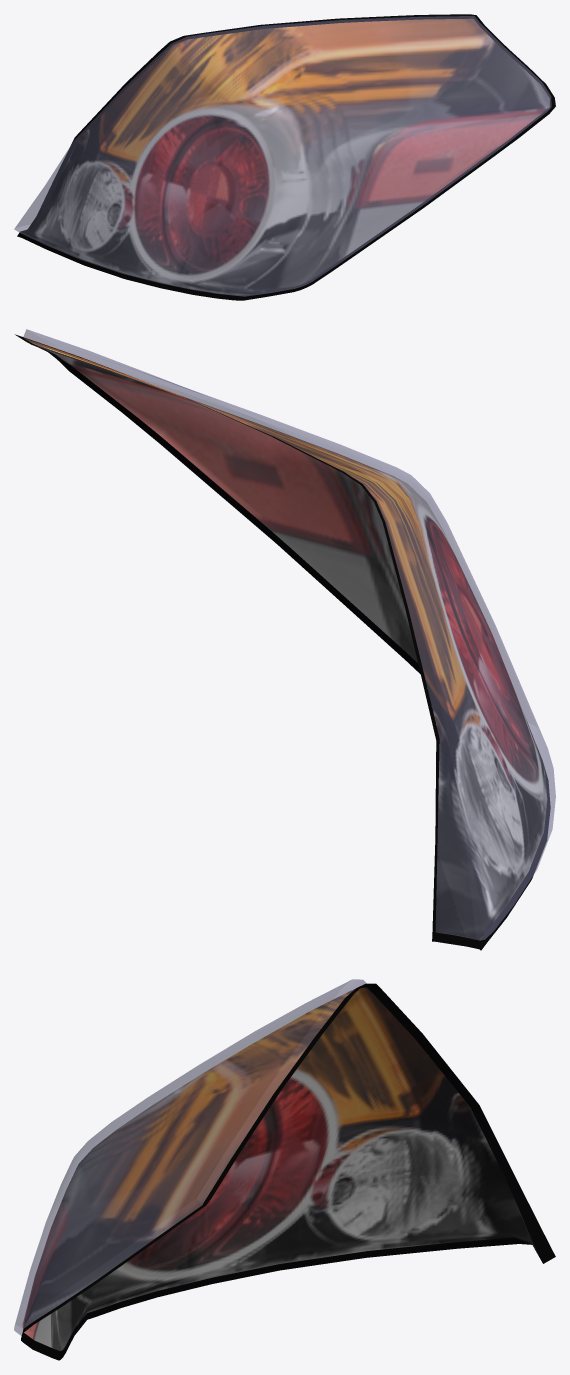
3 views of the same model, one above another, from view 1: azimuth 30°, elevation 25°; view 2: azimuth 150°, elevation 25°; view 3: azimuth 270°, elevation 25° (orthographic). The views are drawn at different scales.
Visible parts, largest first — view 1: Z187_541C_R_1_DTaSI_Z187_541C_R, Z187_541C_R_Z187_541C_R_2_N, Z187_541C_R_Z187_541C_R_D; view 2: Z187_541C_R_Z187_541C_R_2_N, Z187_541C_R_1_DTaSI_Z187_541C_R, Z187_541C_R_Z187_541C_R_D; view 3: Z187_541C_R_Z187_541C_R_2_N, Z187_541C_R_1_DTaSI_Z187_541C_R, Z187_541C_R_Z187_541C_R_D.
Part boxes in pixels (x1,y1,x2,y2): Z187_541C_R_1_DTaSI_Z187_541C_R: (14,16,551,296); Z187_541C_R_Z187_541C_R_2_N: (20,18,549,295); Z187_541C_R_Z187_541C_R_D: (17,14,555,300); Z187_541C_R_Z187_541C_R_2_N: (24,338,547,940); Z187_541C_R_1_DTaSI_Z187_541C_R: (23,329,555,940); Z187_541C_R_Z187_541C_R_D: (15,334,550,950); Z187_541C_R_Z187_541C_R_2_N: (22,987,538,1350); Z187_541C_R_1_DTaSI_Z187_541C_R: (14,979,366,1335); Z187_541C_R_Z187_541C_R_D: (21,983,555,1360).
Bounding box in the file's own units: 58.94 × 30.15 × 39.72.
